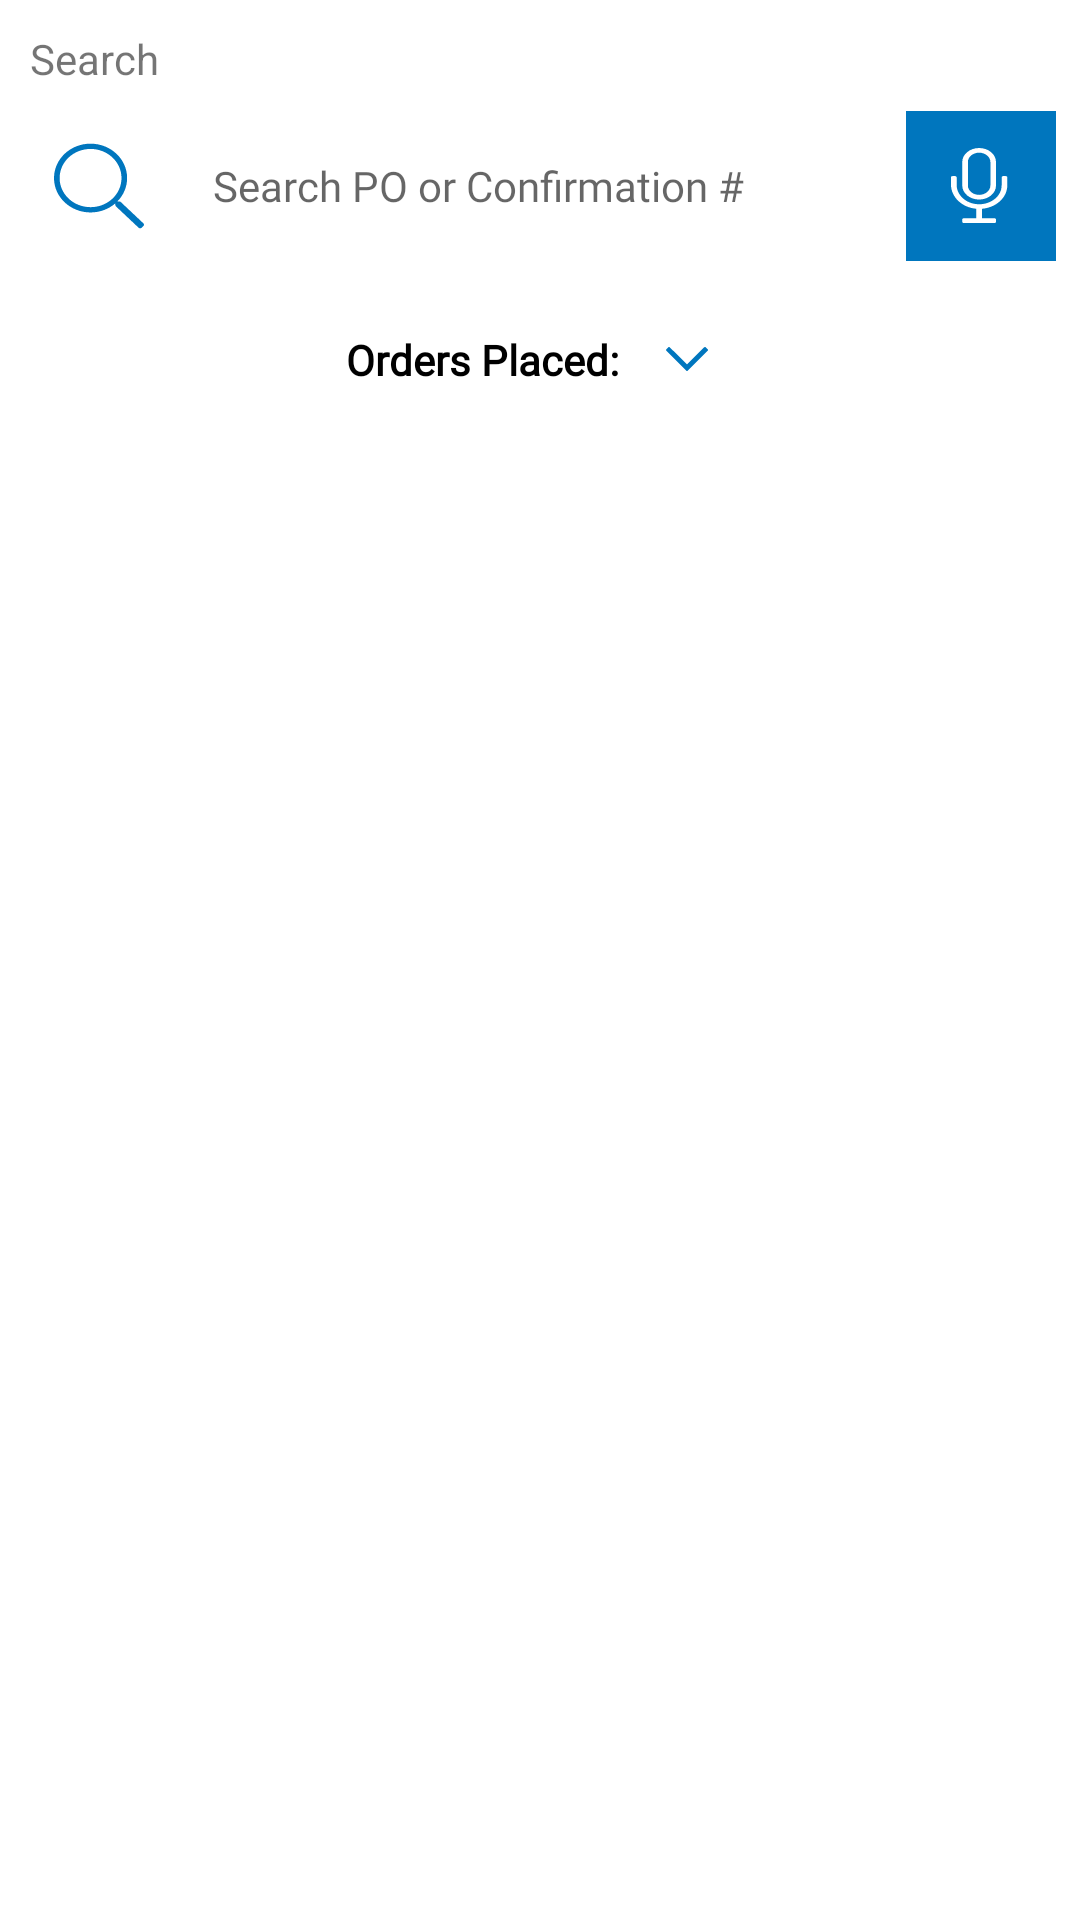

Icon bounding boxes for this 1080px x 1920px phone screenshot, format (x1, y1, x2, y2):
mic: (951, 148, 1008, 223)
